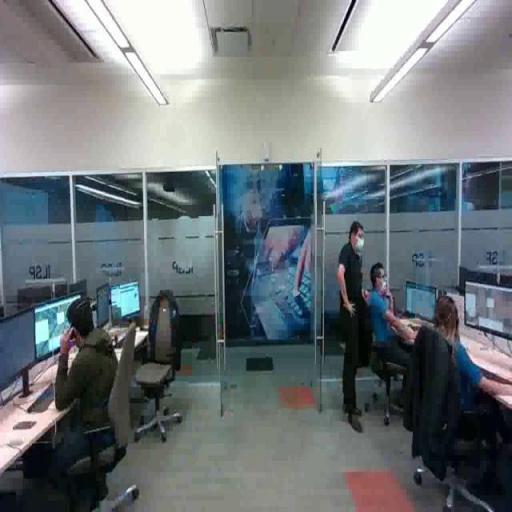person: (337, 221, 369, 435)
